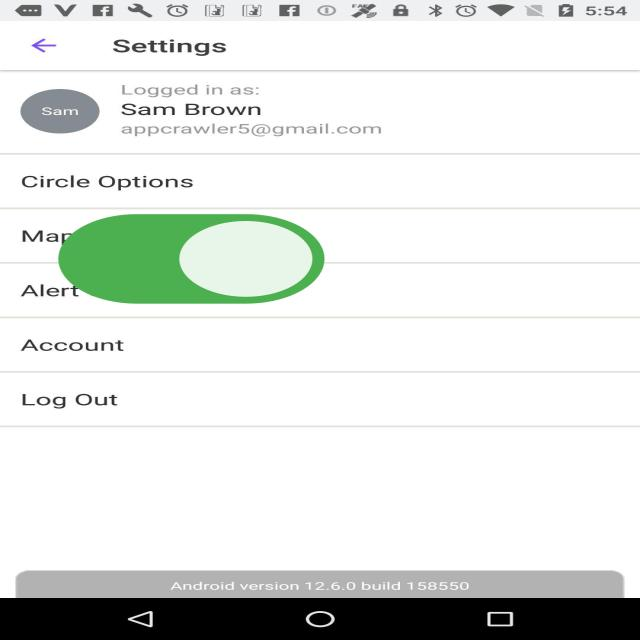social proof: (46, 180, 337, 345)
